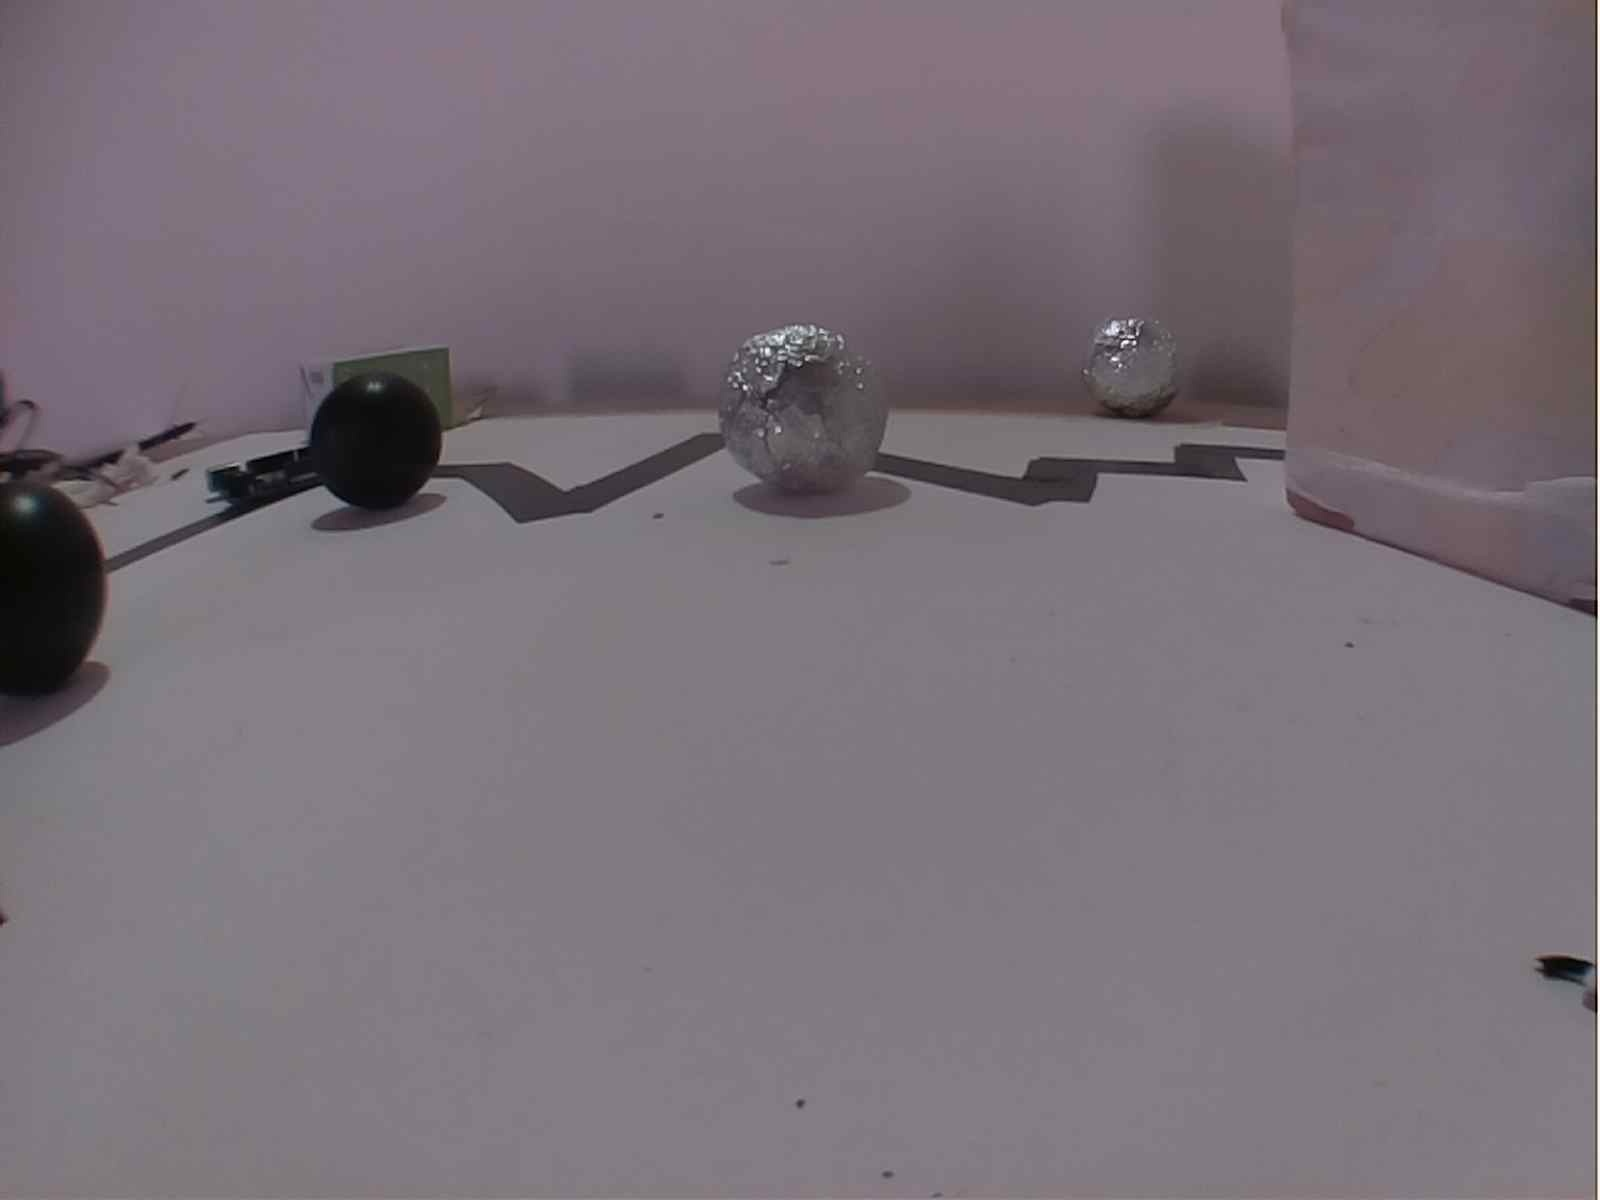bianca: (718, 320, 900, 499), (1075, 313, 1183, 418)
nera: (1, 475, 115, 725), (311, 374, 446, 512)
